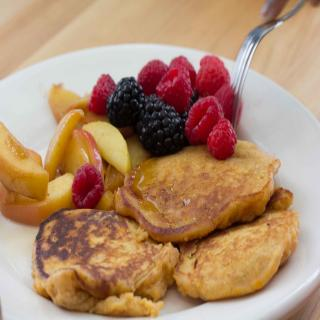Pancake: (115, 136, 282, 244), (32, 208, 182, 314), (173, 185, 301, 305)
